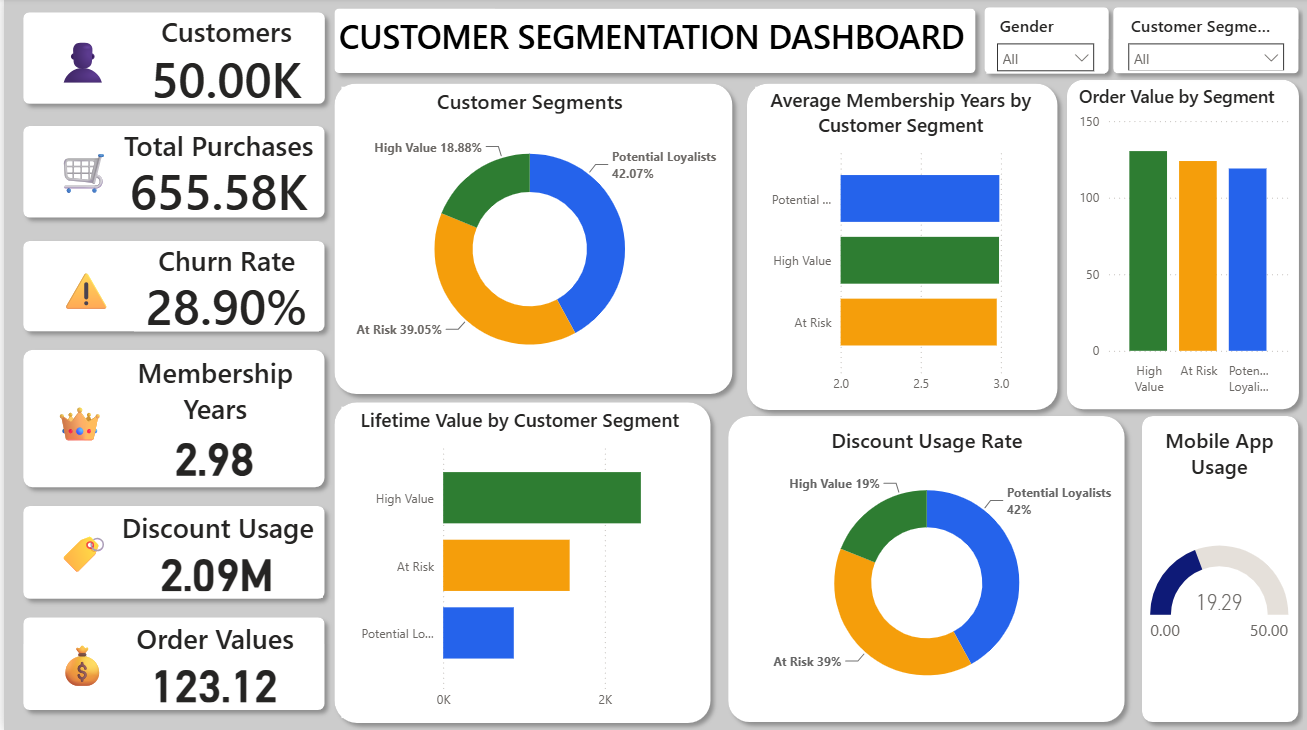

Layout of this report page (visuals, bound fields, positions):
{"tool":"powerbi","page":{"name":"Page 1","canvas":[1280,720],"ordinal":0},"visuals":[{"type":"shape","box":[315.7,1.4,647.1,81.4],"z":0},{"type":"textbox","box":[324.3,11.4,625.7,57.1],"z":1000},{"type":"shape","box":[9.8,4.9,314.1,108],"z":2000},{"type":"shape","box":[10,116.7,313.8,107.9],"z":3000},{"type":"shape","box":[10,229.7,313.8,106.7],"z":4000},{"type":"shape","box":[10,336.4,313.8,153.1],"z":5000},{"type":"card","title":"Customers","fields":{"Values":["CountNonNull(Customer_Segmentation_With_Clusters.Customer_Service_Calls)"]},"box":[105.5,14.7,225.8,92],"z":6000},{"type":"shape","box":[28.2,14.7,98.2,92],"z":7000},{"type":"card","title":"Total Purchases","fields":{"Values":["Sum(Customer_Segmentation_With_Clusters.Total_Purchases)"]},"box":[111.7,126.8,198.3,89.1],"z":8000},{"type":"shape","box":[27.6,125.5,99.2,89.1],"z":9000},{"type":"card","title":"Churn Rate","fields":{"Values":["Avg(Customer_Segmentation_With_Clusters.Churned)"]},"box":[128,239.7,182,87.9],"z":10000},{"type":"shape","box":[42.7,239.7,70.3,87.9],"z":11000},{"type":"card","title":"Membership Years","fields":{"Values":["Avg(Customer_Segmentation_With_Clusters.Membership_Years)"]},"box":[102.9,348.6,207.1,130],"z":12000},{"type":"shape","box":[36.4,369,69,87.9],"z":13000},{"type":"shape","box":[10,489.5,313.8,109.2],"z":14000},{"type":"card","title":"Discount Usage","fields":{"Values":["Sum(Customer_Segmentation_With_Clusters.Discount_Usage_Rate)"]},"box":[105.4,500.8,207.1,87.9],"z":15000},{"type":"shape","box":[38.9,500.8,77.8,87.9],"z":16000},{"type":"shape","box":[10,598.7,313.8,109.2],"z":17000},{"type":"shape","box":[28.9,610,94.1,87.9],"z":18000},{"type":"card","title":"Order Values","fields":{"Values":["Avg(Customer_Segmentation_With_Clusters.Average_Order_Value)"]},"box":[102.9,610,207.1,87.9],"z":19000},{"type":"shape","box":[315.7,74.3,408.6,322.9],"z":20000},{"type":"donutChart","title":"Customer Segments","fields":{"Category":["Customer_Segmentation_With_Clusters.Customer Segment"],"Y":["CountNonNull(Customer_Segmentation_With_Clusters.Customer_Service_Calls)"]},"box":[331.4,87.1,370,292.9],"z":21000},{"type":"shape","box":[315.7,387.1,387.1,332.9],"z":22000},{"type":"barChart","title":"Lifetime Value by Customer Segment","fields":{"Category":["Customer_Segmentation_With_Clusters.Customer Segment"],"Y":["Avg(Customer_Segmentation_With_Clusters.Lifetime_Value)"]},"box":[331.4,401.4,350,305.7],"z":23000},{"type":"shape","box":[701.4,401.4,407.1,318.6],"z":24000},{"type":"donutChart","title":"Discount Usage Rate","fields":{"Category":["Customer_Segmentation_With_Clusters.Customer Segment"],"Y":["Sum(Customer_Segmentation_With_Clusters.Discount_Usage_Rate)"]},"box":[720,420,371.4,282.9],"z":25000},{"type":"shape","box":[1108.6,401.4,171.4,318.6],"z":26000},{"type":"gauge","title":"Mobile App Usage","fields":{"Y":["Avg(Customer_Segmentation_With_Clusters.Mobile_App_Usage)"]},"box":[1120,420,145.7,282.9],"z":27000},{"type":"shape","box":[1034.3,71.4,245.7,341.4],"z":28000},{"type":"clusteredColumnChart","title":"Order Value by Segment","fields":{"Category":["Customer_Segmentation_With_Clusters.Customer Segment"],"Y":["Avg(Customer_Segmentation_With_Clusters.Average_Order_Value)"]},"box":[1050,84.3,215.7,312.9],"z":29000},{"type":"shape","box":[720,74.3,322.9,338.6],"z":30000},{"type":"barChart","title":"Average Membership Years by Customer Segment","fields":{"Category":["Customer_Segmentation_With_Clusters.Customer Segment"],"Y":["Avg(Customer_Segmentation_With_Clusters.Membership_Years)"]},"box":[737.1,87.1,285.7,310],"z":31000},{"type":"shape","box":[952.9,0,140,82.9],"z":32000},{"type":"slicer","fields":{"Values":["Customer_Segmentation_With_Clusters.Gender"]},"box":[964.3,11.4,115.7,62.9],"z":33000},{"type":"shape","box":[1080,0,200,82.9],"z":34000},{"type":"slicer","fields":{"Values":["Customer_Segmentation_With_Clusters.Customer Segment"]},"box":[1092.9,11.4,172.9,60],"z":35000}]}

Visuals, with their boxes in screenshot pixels (x1, y1, x2, y2), scaled from the page's 1280x720 canvas onto the 1307x730 screenshot:
shape: region(322, 1, 983, 84)
textbox: region(331, 12, 970, 69)
shape: region(10, 5, 331, 114)
shape: region(10, 118, 331, 228)
shape: region(10, 233, 331, 341)
shape: region(10, 341, 331, 496)
"Customers" card: region(108, 15, 338, 108)
shape: region(29, 15, 129, 108)
"Total Purchases" card: region(114, 129, 317, 219)
shape: region(28, 127, 129, 218)
"Churn Rate" card: region(131, 243, 317, 332)
shape: region(44, 243, 115, 332)
"Membership Years" card: region(105, 353, 317, 485)
shape: region(37, 374, 108, 463)
shape: region(10, 496, 331, 607)
"Discount Usage" card: region(108, 508, 319, 597)
shape: region(40, 508, 119, 597)
shape: region(10, 607, 331, 718)
shape: region(30, 618, 126, 708)
"Order Values" card: region(105, 618, 317, 708)
shape: region(322, 75, 740, 403)
"Customer Segments" donutChart: region(338, 88, 716, 385)
shape: region(322, 392, 718, 729)
"Lifetime Value by Customer Segment" barChart: region(338, 407, 696, 717)
shape: region(716, 407, 1132, 729)
"Discount Usage Rate" donutChart: region(735, 426, 1114, 713)
shape: region(1132, 407, 1306, 729)
"Mobile App Usage" gauge: region(1144, 426, 1292, 713)
shape: region(1056, 72, 1306, 419)
"Order Value by Segment" clusteredColumnChart: region(1072, 85, 1292, 403)
shape: region(735, 75, 1065, 419)
"Average Membership Years by Customer Segment" barChart: region(753, 88, 1044, 403)
shape: region(973, 0, 1116, 84)
slicer - Customer_Segmentation_With_Clusters.Gender: region(985, 12, 1103, 75)
shape: region(1103, 0, 1306, 84)
slicer - Customer_Segmentation_With_Clusters.Customer Segment: region(1116, 12, 1293, 72)
